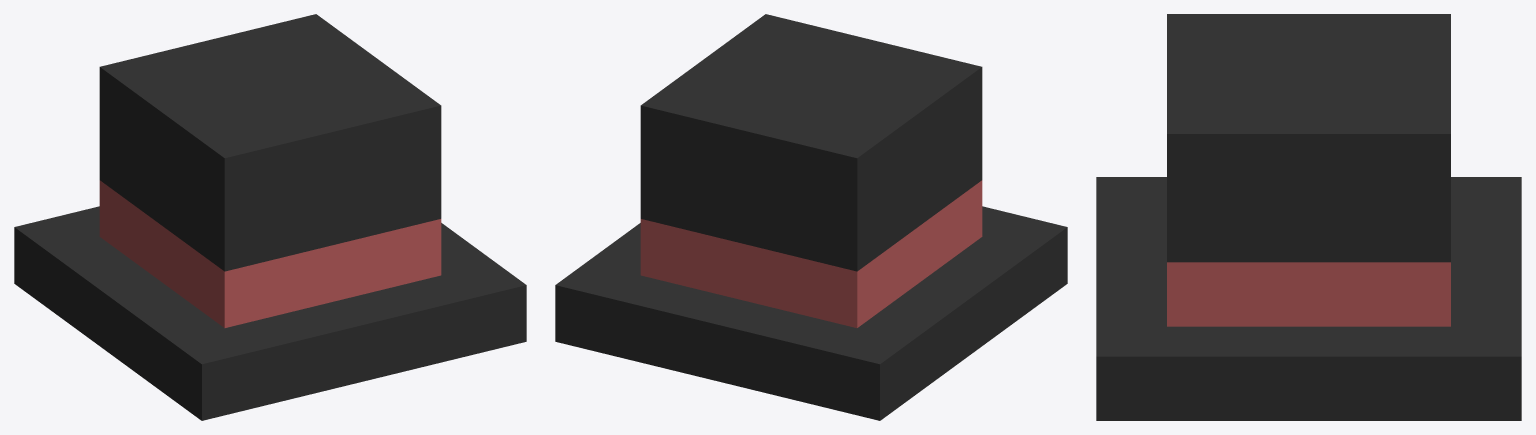
File: clown5.obj
3 views of the same model, side by side, from view 1: azimuth 30°, elevation 25°; view 2: azimuth 150°, elevation 25°; view 3: azimuth 270°, elevation 25° (orthographic). The views are drawn at different scales.
Size of the model in its own units: 0.6 by 0.4 by 0.6.
1 material, 1 textured.
